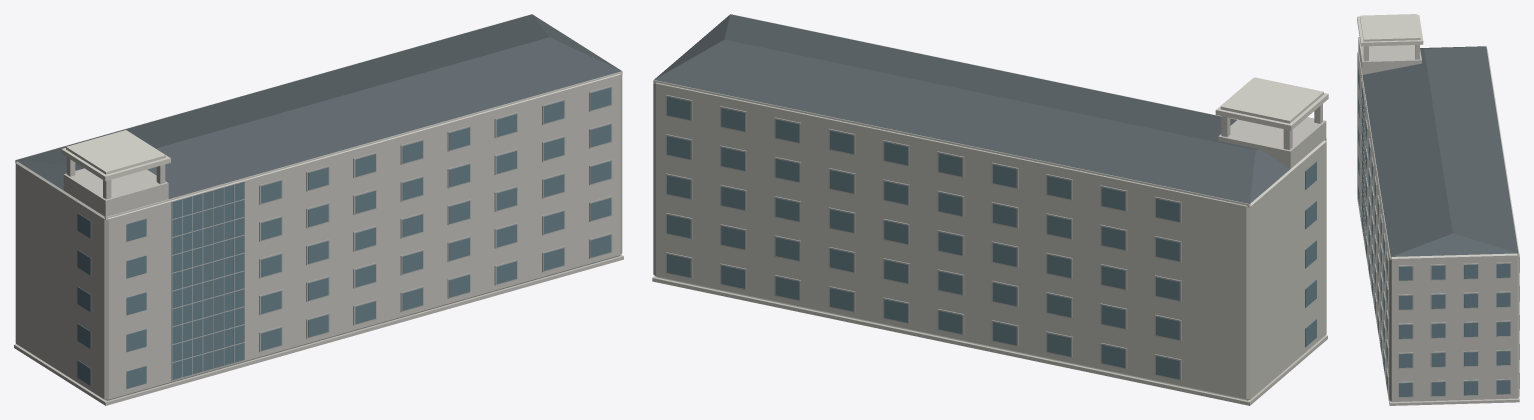
File: SEU_c15_a_reuse_candidate.glb
The picture shows the model from 3 angles, left to right: view 1: azimuth 30°, elevation 25°; view 2: azimuth 150°, elevation 25°; view 3: azimuth 270°, elevation 25°; orthographic projection. The views are drawn at different scales.
Visible parts, largest first — view 1: SEU_B_OSMWAY_300030306_PHOTO_legacy_body_five_storeys, SEU_B_OSMWAY_300030306_PHOTO_shallow_hip_roof, SEU_B_OSMWAY_300030306_PHOTO_legacy_window_glass, SEU_B_OSMWAY_300030306_PHOTO_south_vertical_glazing, SEU_B_OSMWAY_300030306_PHOTO_legacy_window_frames, SEU_B_OSMWAY_300030306_PHOTO_legacy_footing, SEU_B_OSMWAY_300030306_PHOTO_tower_south_windows, SEU_B_OSMWAY_300030306_PHOTO_tower_projecting_cap, SEU_B_OSMWAY_300030306_PHOTO_glazing_mullions, SEU_B_OSMWAY_300030306_PHOTO_west_tower_upper, SEU_B_OSMWAY_300030306_PHOTO_main_eave_bands; view 2: SEU_B_OSMWAY_300030306_PHOTO_legacy_body_five_storeys, SEU_B_OSMWAY_300030306_PHOTO_shallow_hip_roof, SEU_B_OSMWAY_300030306_PHOTO_legacy_window_glass, SEU_B_OSMWAY_300030306_PHOTO_legacy_window_frames, SEU_B_OSMWAY_300030306_PHOTO_legacy_footing, SEU_B_OSMWAY_300030306_PHOTO_tower_projecting_cap, SEU_B_OSMWAY_300030306_PHOTO_west_tower_upper, SEU_B_OSMWAY_300030306_PHOTO_main_eave_bands, SEU_B_OSMWAY_300030306_PHOTO_tower_south_windows; view 3: SEU_B_OSMWAY_300030306_PHOTO_shallow_hip_roof, SEU_B_OSMWAY_300030306_PHOTO_legacy_body_five_storeys, SEU_B_OSMWAY_300030306_PHOTO_legacy_window_glass, SEU_B_OSMWAY_300030306_PHOTO_legacy_window_frames, SEU_B_OSMWAY_300030306_PHOTO_tower_projecting_cap, SEU_B_OSMWAY_300030306_PHOTO_west_tower_upper, SEU_B_OSMWAY_300030306_PHOTO_legacy_footing, SEU_B_OSMWAY_300030306_PHOTO_glazing_mullions, SEU_B_OSMWAY_300030306_PHOTO_south_vertical_glazing, SEU_B_OSMWAY_300030306_PHOTO_main_eave_bands, SEU_B_OSMWAY_300030306_PHOTO_tower_south_windows, SEU_B_OSMWAY_300030306_PHOTO_tower_open_cap_posts.
Part boxes in pixels (x1=…): SEU_B_OSMWAY_300030306_PHOTO_legacy_body_five_storeys: x1=15, y1=73, x2=622, y2=400; SEU_B_OSMWAY_300030306_PHOTO_shallow_hip_roof: x1=16, y1=14, x2=621, y2=198; SEU_B_OSMWAY_300030306_PHOTO_legacy_window_glass: x1=261, y1=87, x2=611, y2=350; SEU_B_OSMWAY_300030306_PHOTO_south_vertical_glazing: x1=172, y1=182, x2=243, y2=380; SEU_B_OSMWAY_300030306_PHOTO_legacy_window_frames: x1=259, y1=85, x2=612, y2=351; SEU_B_OSMWAY_300030306_PHOTO_legacy_footing: x1=14, y1=254, x2=623, y2=405; SEU_B_OSMWAY_300030306_PHOTO_tower_south_windows: x1=77, y1=213, x2=146, y2=388; SEU_B_OSMWAY_300030306_PHOTO_tower_projecting_cap: x1=61, y1=130, x2=170, y2=181; SEU_B_OSMWAY_300030306_PHOTO_glazing_mullions: x1=171, y1=181, x2=244, y2=380; SEU_B_OSMWAY_300030306_PHOTO_west_tower_upper: x1=63, y1=168, x2=168, y2=216; SEU_B_OSMWAY_300030306_PHOTO_main_eave_bands: x1=15, y1=14, x2=622, y2=220; SEU_B_OSMWAY_300030306_PHOTO_legacy_body_five_storeys: x1=653, y1=82, x2=1326, y2=400; SEU_B_OSMWAY_300030306_PHOTO_shallow_hip_roof: x1=654, y1=14, x2=1290, y2=203; SEU_B_OSMWAY_300030306_PHOTO_legacy_window_glass: x1=667, y1=96, x2=1179, y2=379; SEU_B_OSMWAY_300030306_PHOTO_legacy_window_frames: x1=665, y1=95, x2=1181, y2=380; SEU_B_OSMWAY_300030306_PHOTO_legacy_footing: x1=652, y1=276, x2=1327, y2=405; SEU_B_OSMWAY_300030306_PHOTO_tower_projecting_cap: x1=1215, y1=77, x2=1328, y2=130; SEU_B_OSMWAY_300030306_PHOTO_west_tower_upper: x1=1218, y1=117, x2=1326, y2=168; SEU_B_OSMWAY_300030306_PHOTO_main_eave_bands: x1=653, y1=14, x2=1326, y2=207; SEU_B_OSMWAY_300030306_PHOTO_tower_south_windows: x1=1305, y1=161, x2=1316, y2=347; SEU_B_OSMWAY_300030306_PHOTO_shallow_hip_roof: x1=1362, y1=46, x2=1518, y2=256; SEU_B_OSMWAY_300030306_PHOTO_legacy_body_five_storeys: x1=1357, y1=49, x2=1519, y2=401; SEU_B_OSMWAY_300030306_PHOTO_legacy_window_glass: x1=1365, y1=121, x2=1519, y2=396; SEU_B_OSMWAY_300030306_PHOTO_legacy_window_frames: x1=1366, y1=119, x2=1519, y2=397; SEU_B_OSMWAY_300030306_PHOTO_tower_projecting_cap: x1=1357, y1=14, x2=1423, y2=46; SEU_B_OSMWAY_300030306_PHOTO_west_tower_upper: x1=1358, y1=37, x2=1421, y2=74; SEU_B_OSMWAY_300030306_PHOTO_legacy_footing: x1=1357, y1=196, x2=1519, y2=405; SEU_B_OSMWAY_300030306_PHOTO_glazing_mullions: x1=1361, y1=78, x2=1365, y2=248; SEU_B_OSMWAY_300030306_PHOTO_south_vertical_glazing: x1=1361, y1=82, x2=1365, y2=244; SEU_B_OSMWAY_300030306_PHOTO_main_eave_bands: x1=1358, y1=46, x2=1518, y2=259; SEU_B_OSMWAY_300030306_PHOTO_tower_south_windows: x1=1358, y1=67, x2=1359, y2=205; SEU_B_OSMWAY_300030306_PHOTO_tower_open_cap_posts: x1=1363, y1=45, x2=1419, y2=61.
Size of the model in its own units: 56.2 by 22.7 by 18.28.
